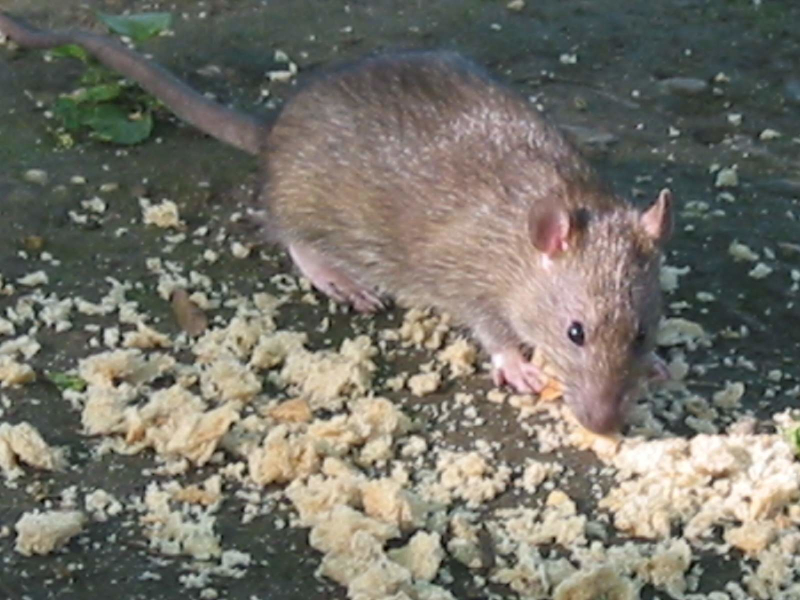rat: (186, 13, 677, 443)
